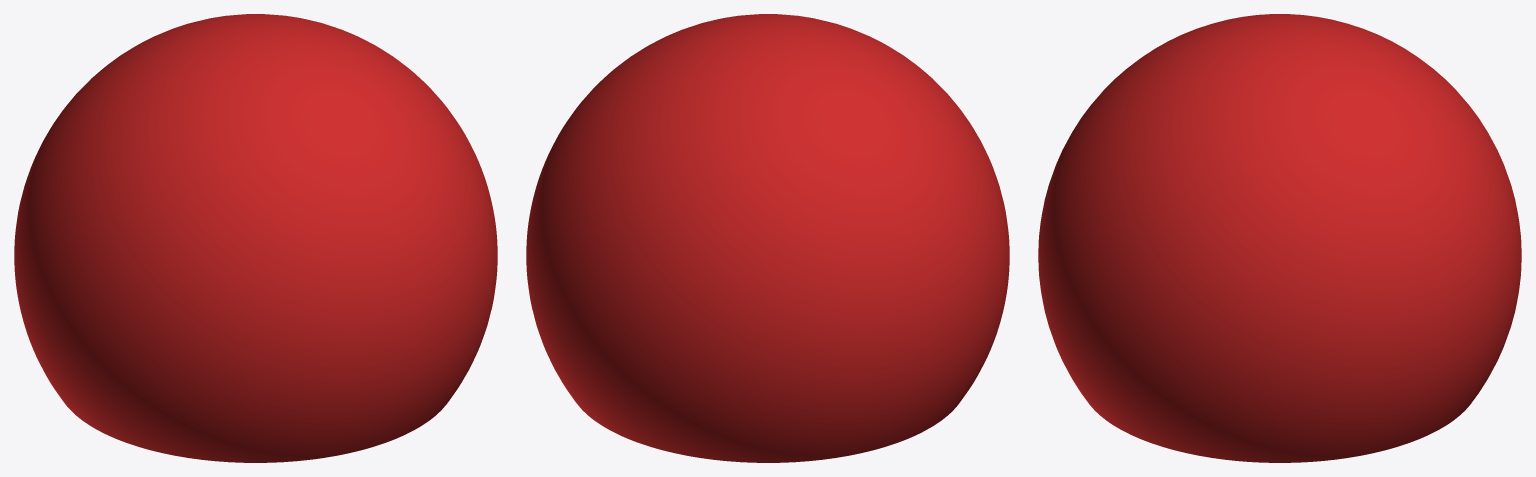
Rendered from Bolletje 2.5cm (1) 2.glb.
The picture shows the model from 3 angles, left to right: view 1: azimuth 30°, elevation 25°; view 2: azimuth 150°, elevation 25°; view 3: azimuth 270°, elevation 25°; orthographic projection.
Size of the model in its own units: 0.025 by 0.0195 by 0.025.
